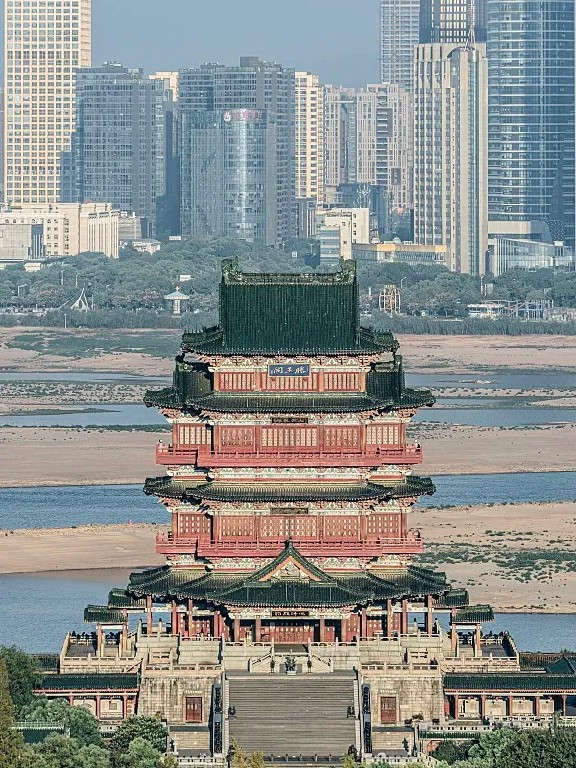Teng: (85, 256, 494, 659)
